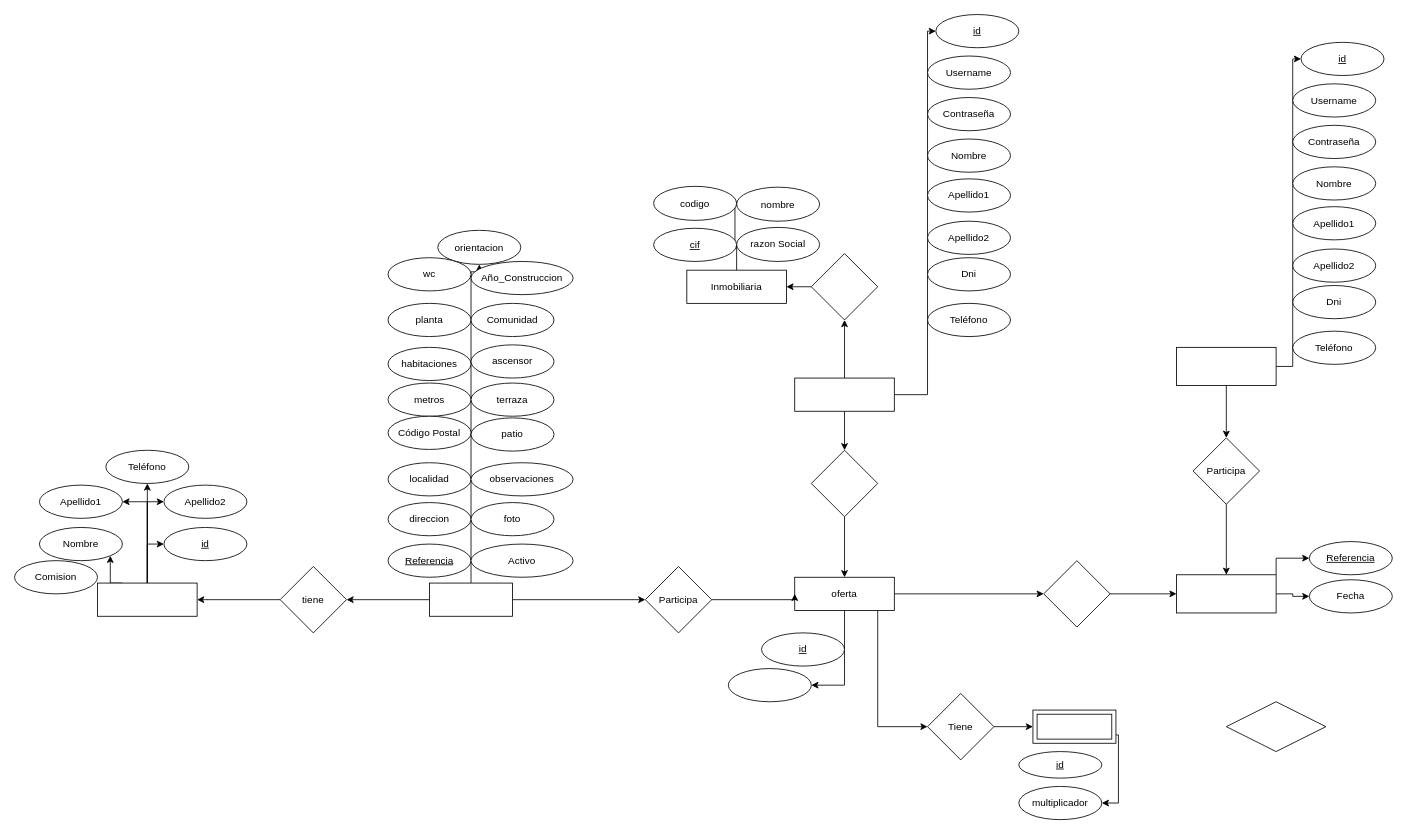
This 1407x834 diagram has some shape labels left out. The shapes that lost their labels are listed below. From the top down, each one's centre as x and y in pixels, then its label:
At (844,286): "pertenece".
At (1226,366): "Cliente".
At (844,394): "vendedor".
At (844,483): "Realiza".
At (147,599): "Contaco/Propietario".
At (471,599): "Inmueble".
At (1076,593): "Genera".
At (1226,593): "Operacion".
At (769,685): "precio".
At (1074,726): "Tipo".
At (1275,726): "Relationship".
